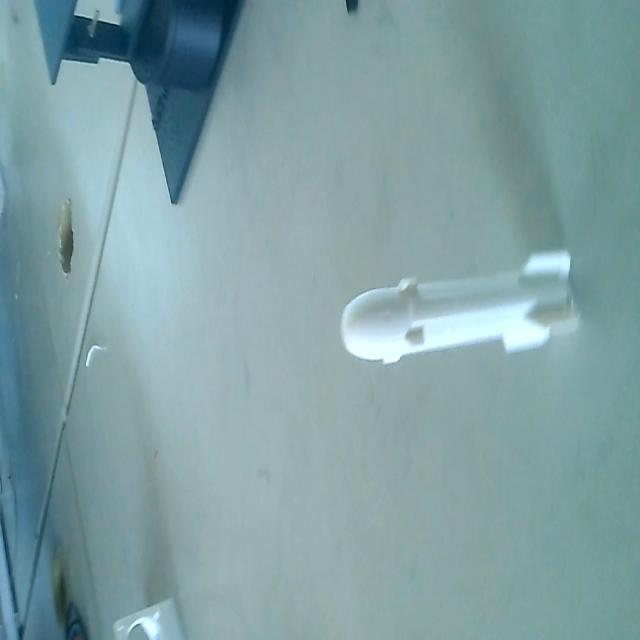Rocket: (340, 244, 584, 374)
